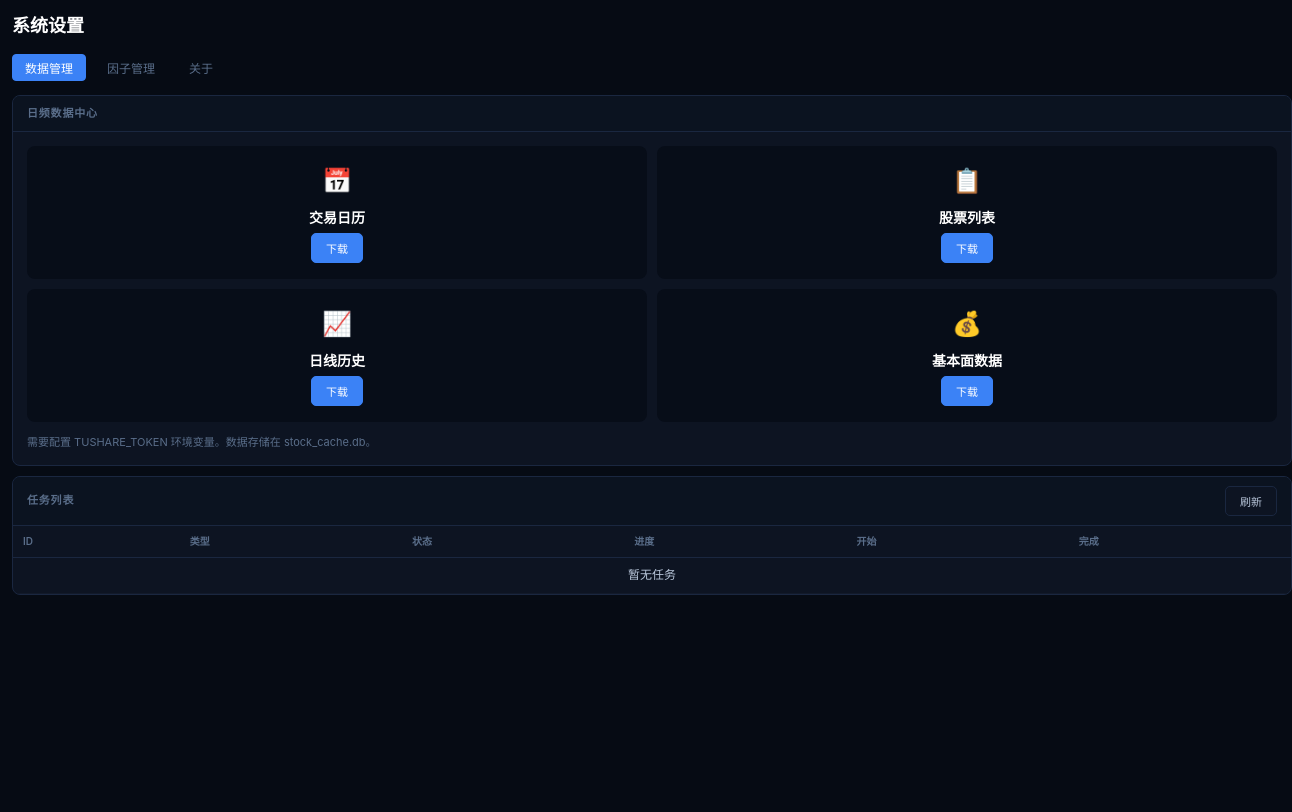
it: Settings › renders about tab with version info
Click the button "关于": (201, 67) [176,54,226,81]
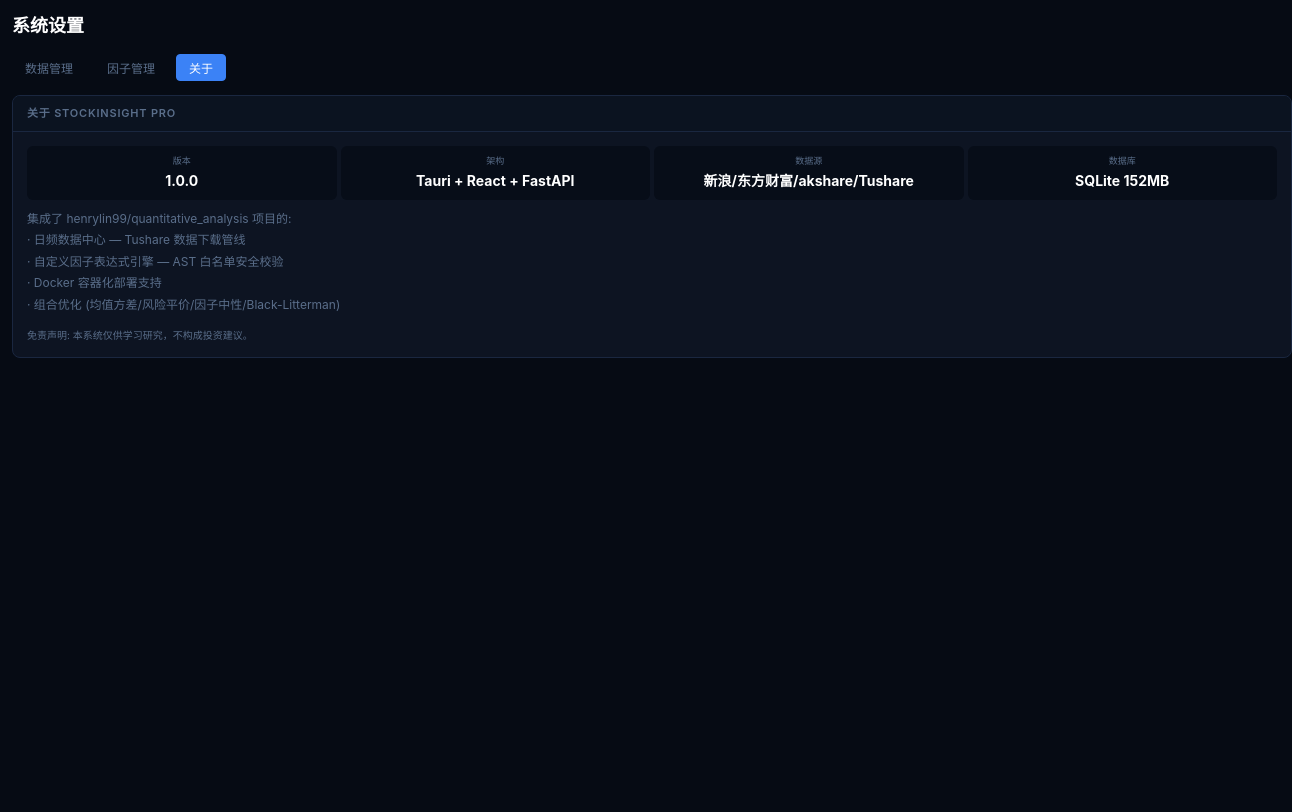
Expected: the text "关于 StockInsight Pro" is shown, [13,96,1291,132]
Expected: the text "1.0.0" is shown, [165,172,198,189]
Expected: the text "Tauri + React + FastAPI" is shown, [416,172,574,189]
